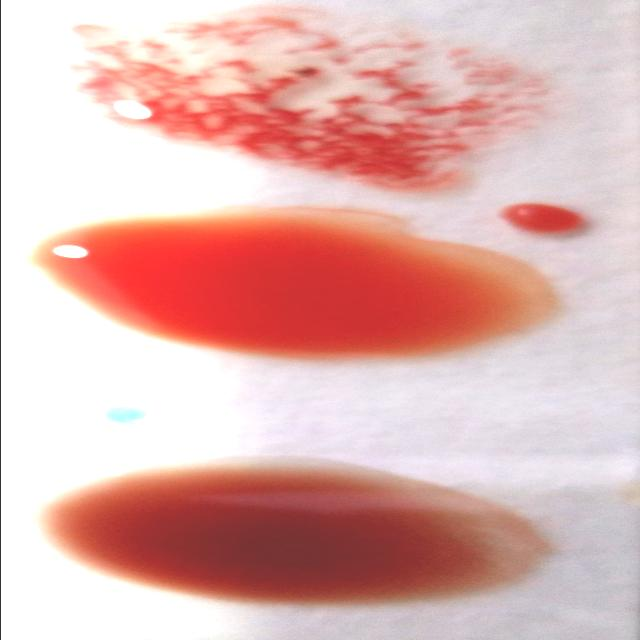D: (64, 18, 524, 171)
